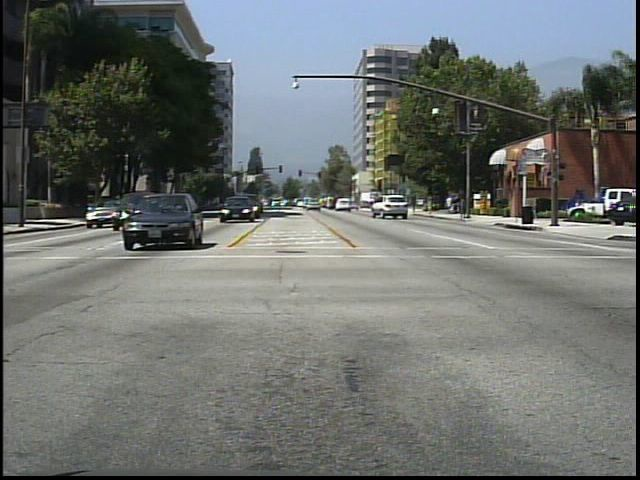person: (425, 192, 436, 217), (444, 193, 456, 215)
